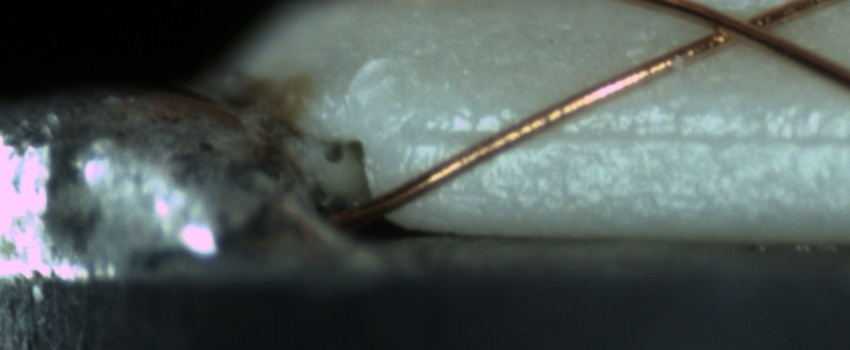CL: (687, 3, 784, 52)
DL: (406, 102, 850, 166)
